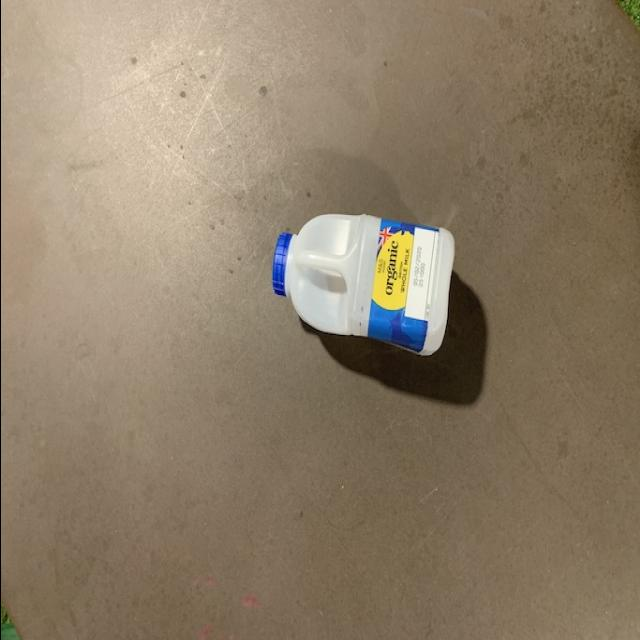litter: (266, 212, 454, 356)
